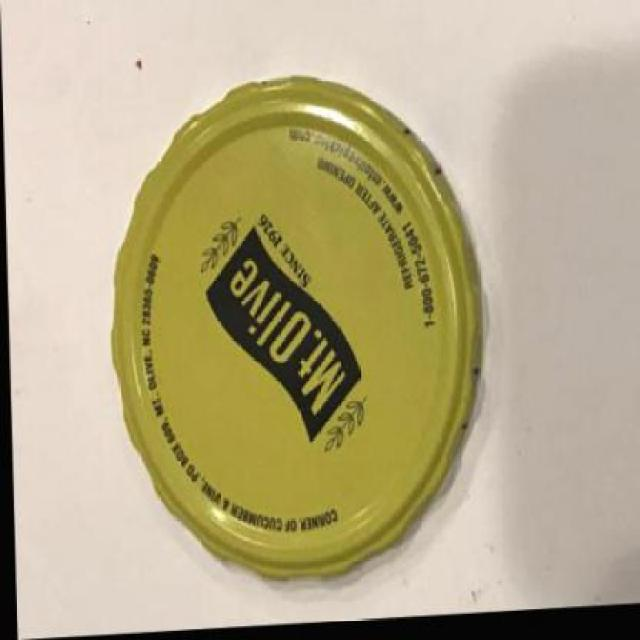Metal: (106, 72, 490, 584)
